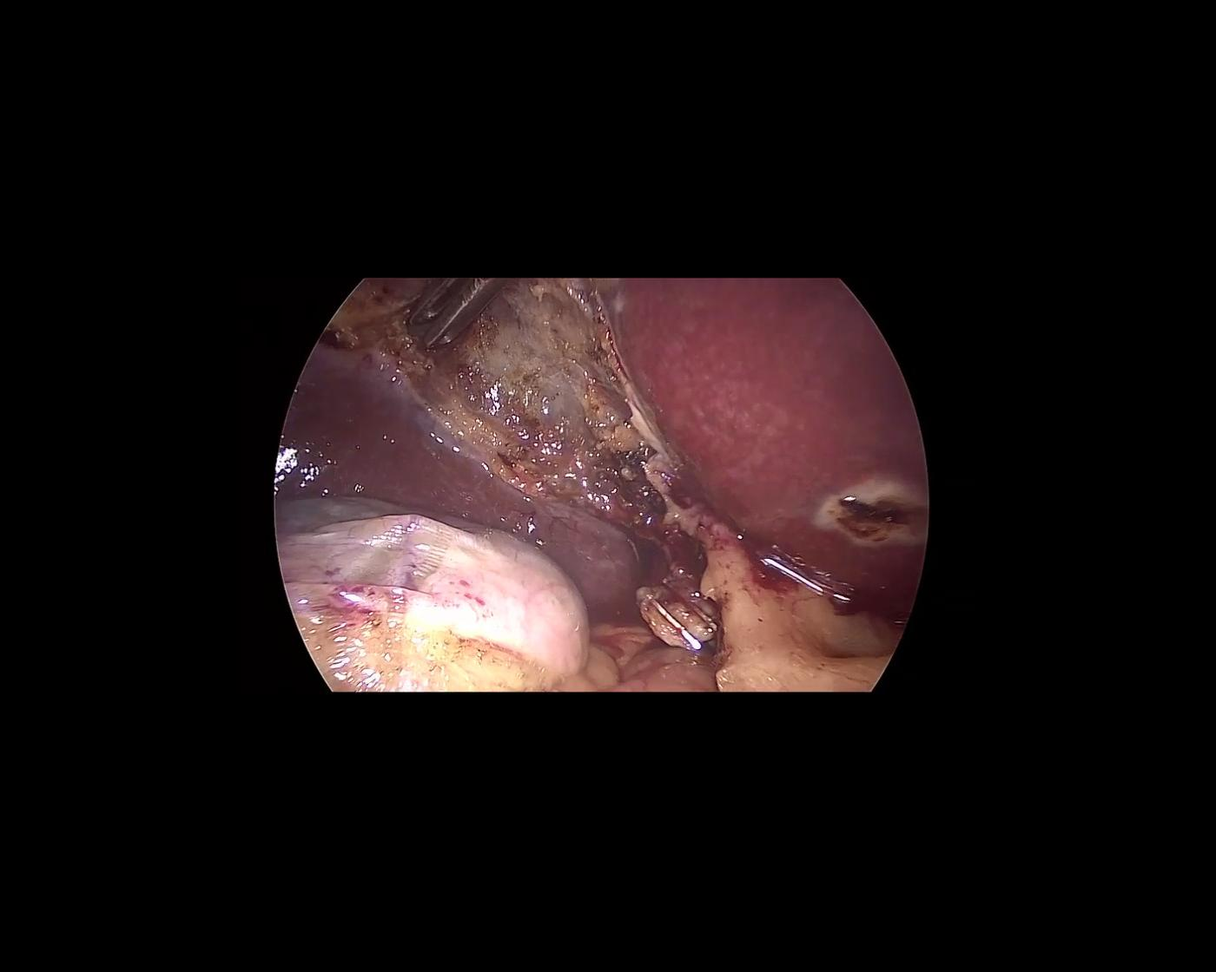Forceps: (400, 245, 509, 355)
Gallbladder: (277, 497, 590, 691)
Liver: (605, 207, 970, 675), (262, 328, 674, 622)
